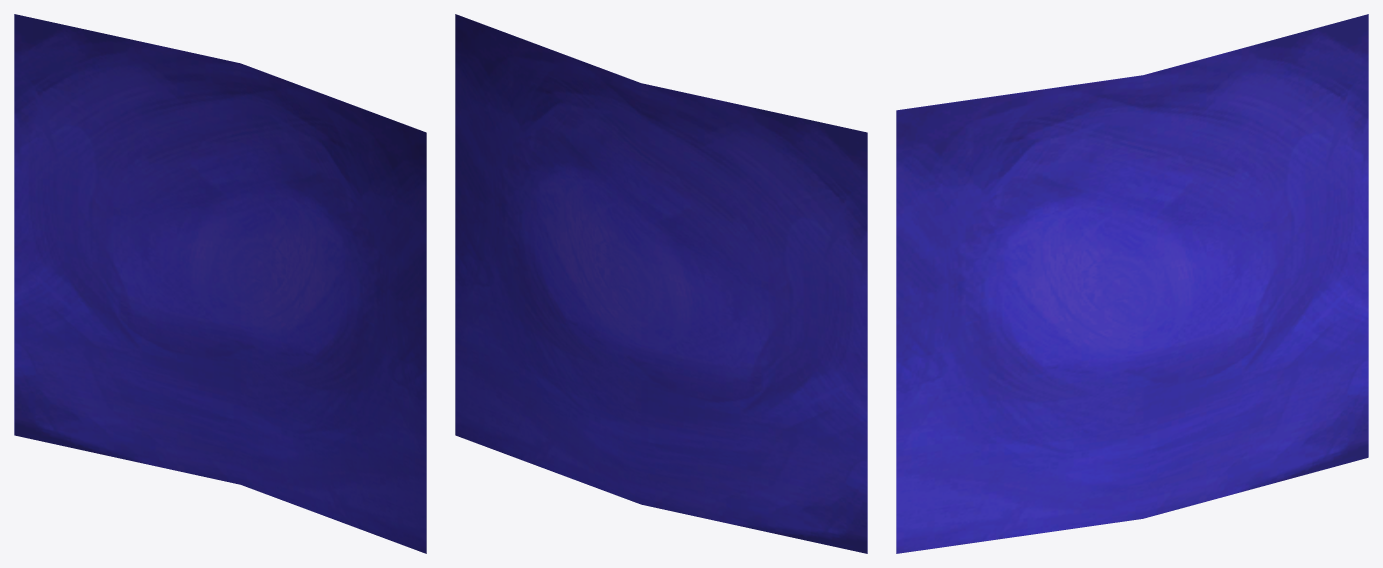
File: SWORDLIGHT20_PS-AREA05-RANGE05_03.fbx
3 views of the same model, side by side, from view 1: azimuth 30°, elevation 25°; view 2: azimuth 210°, elevation 25°; view 3: azimuth 270°, elevation 25° (orthographic). The views are drawn at different scales.
Visible parts, largest first — view 1: SWORDLIGHT20_PS-AREA05-RANGE05_03; view 2: SWORDLIGHT20_PS-AREA05-RANGE05_03; view 3: SWORDLIGHT20_PS-AREA05-RANGE05_03.
Part boxes in pixels (x1,y1,x2,y2): SWORDLIGHT20_PS-AREA05-RANGE05_03: (14, 14, 426, 553); SWORDLIGHT20_PS-AREA05-RANGE05_03: (455, 14, 867, 553); SWORDLIGHT20_PS-AREA05-RANGE05_03: (896, 14, 1368, 553).
Size of the model in its own units: 149673 by 321356 by 310189.
1 material, 1 textured.
